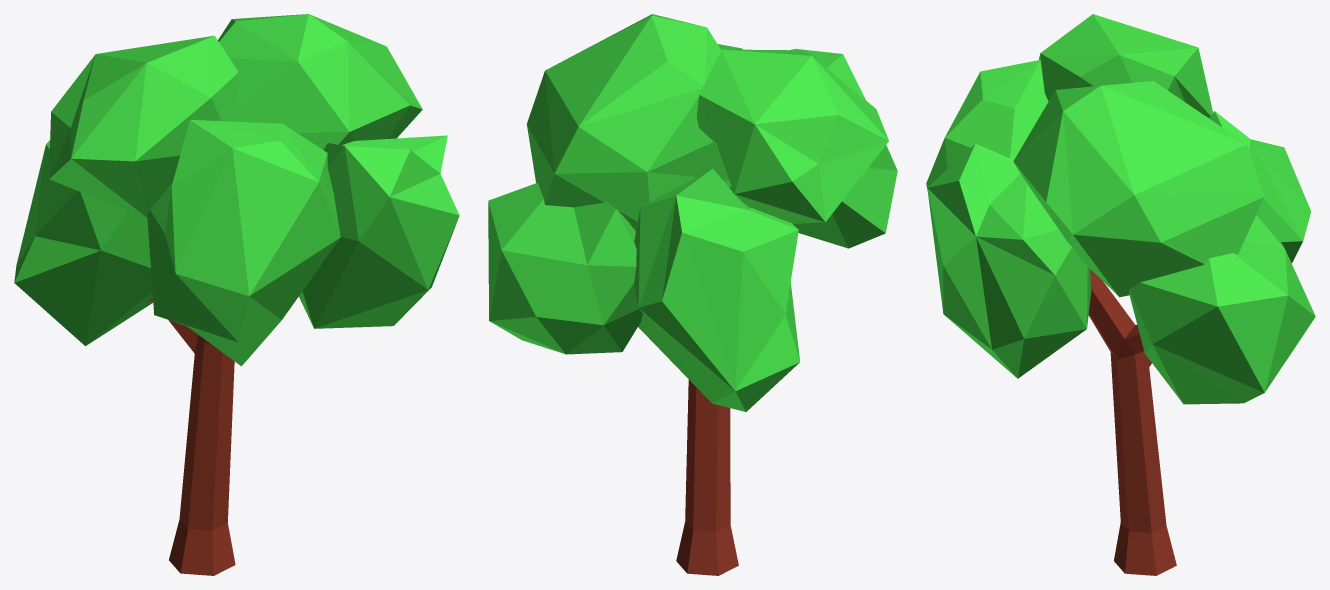
The model's file is pohon 5.fbx.
3 views of the same model, side by side, from view 1: azimuth 30°, elevation 25°; view 2: azimuth 150°, elevation 25°; view 3: azimuth 270°, elevation 25° (orthographic). The views are drawn at different scales.
Visible parts, largest first — view 1: Tree Type0 05 Model; view 2: Tree Type0 05 Model; view 3: Tree Type0 05 Model.
Boxes of the visible parts, x1,y1,x2,y2 form: Tree Type0 05 Model: [14, 14, 459, 575]; Tree Type0 05 Model: [488, 14, 897, 575]; Tree Type0 05 Model: [926, 14, 1315, 575].
Bounding box in the file's own units: 865 × 1262 × 864.
